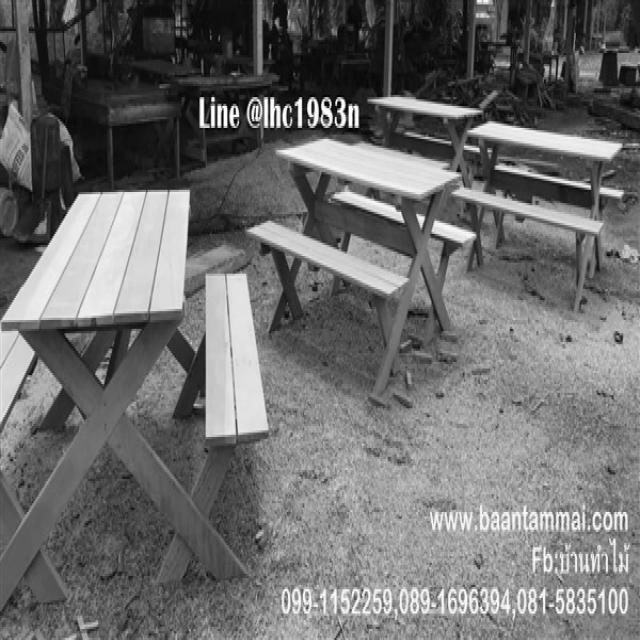table: (2, 172, 198, 356), (270, 126, 456, 256), (466, 96, 621, 204)
